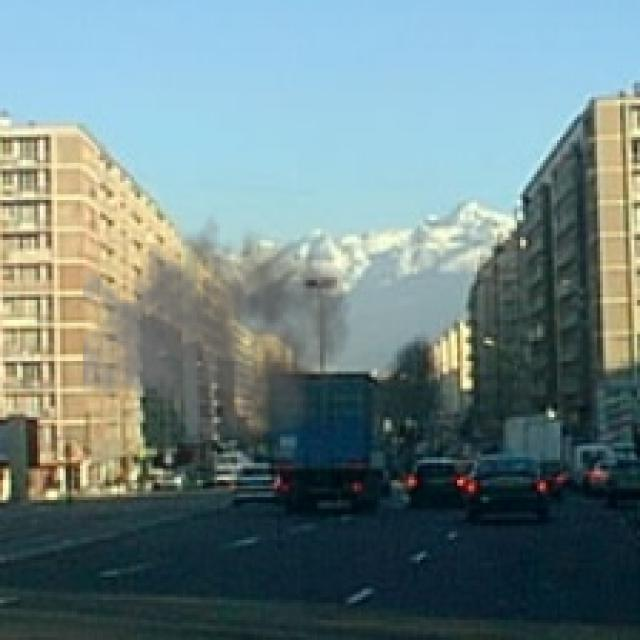smoke: (83, 203, 351, 457)
